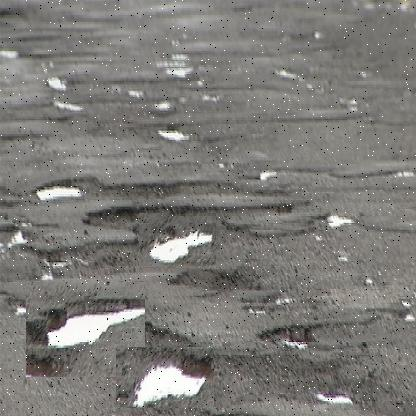pothole_water: (27, 281, 146, 378), (116, 347, 215, 409), (139, 213, 217, 269)
